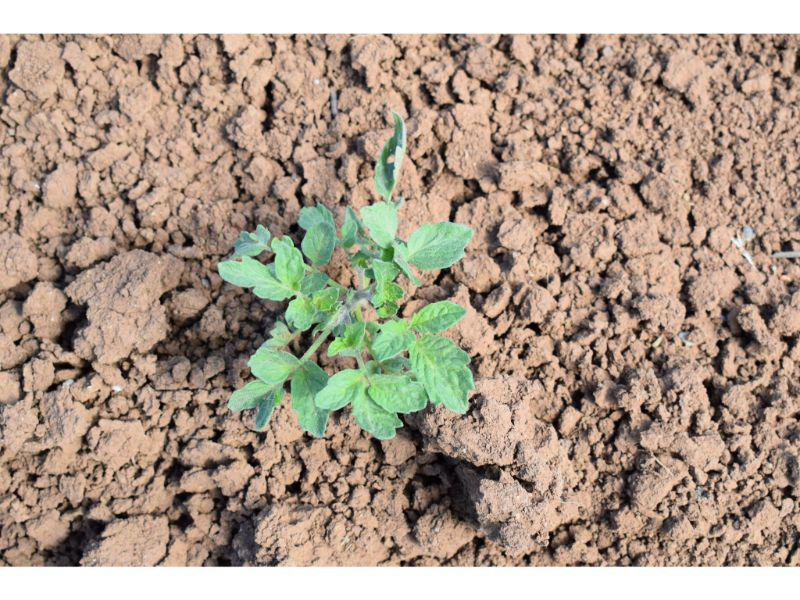tomato: (217, 108, 473, 439)
